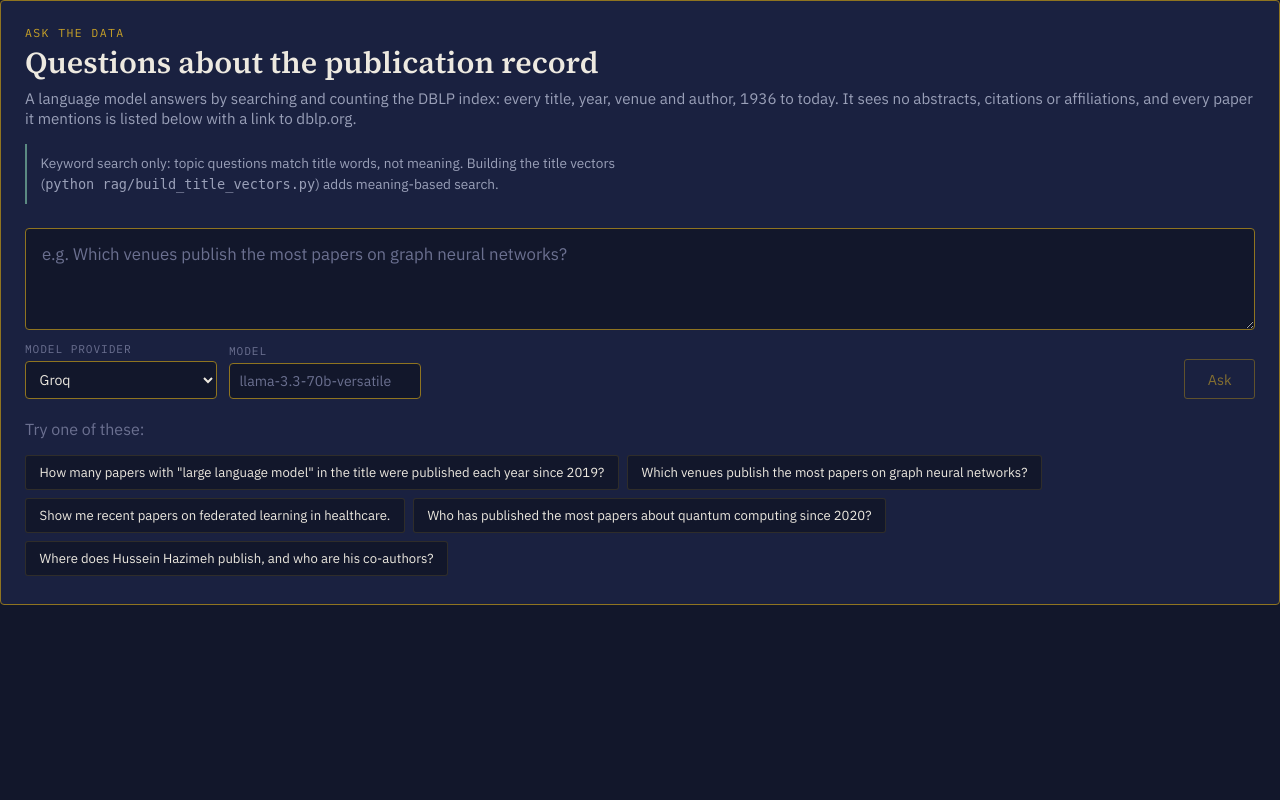
Test case: AskPage › sends the chosen provider and model
This screenshot has width=1280, height=800.
Select "Ollama (local)" in the dropdown labelled "Model provider": {"x": 121, "y": 380} left=25, top=362, right=217, bottom=400
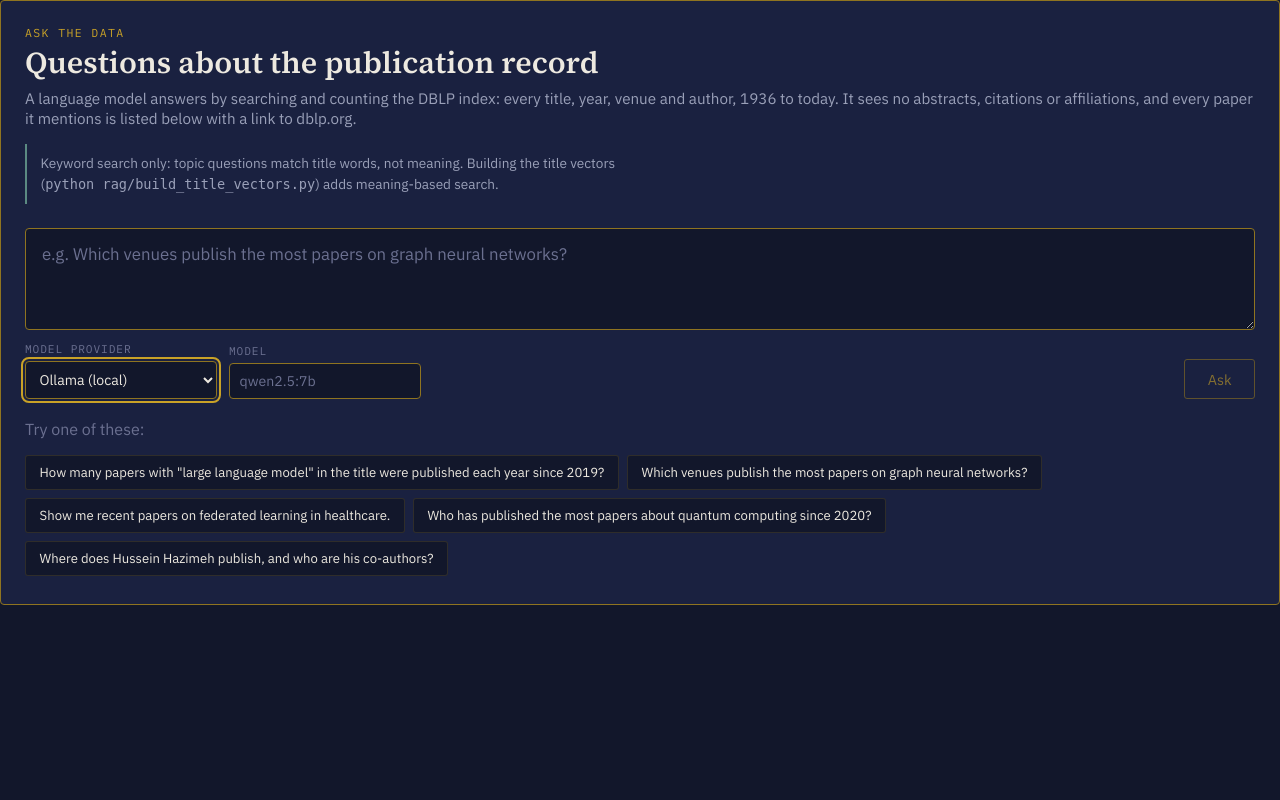
In the field labelled "Model": {"x": 325, "y": 382} left=229, top=364, right=421, bottom=400, type "llama3.1:8b"
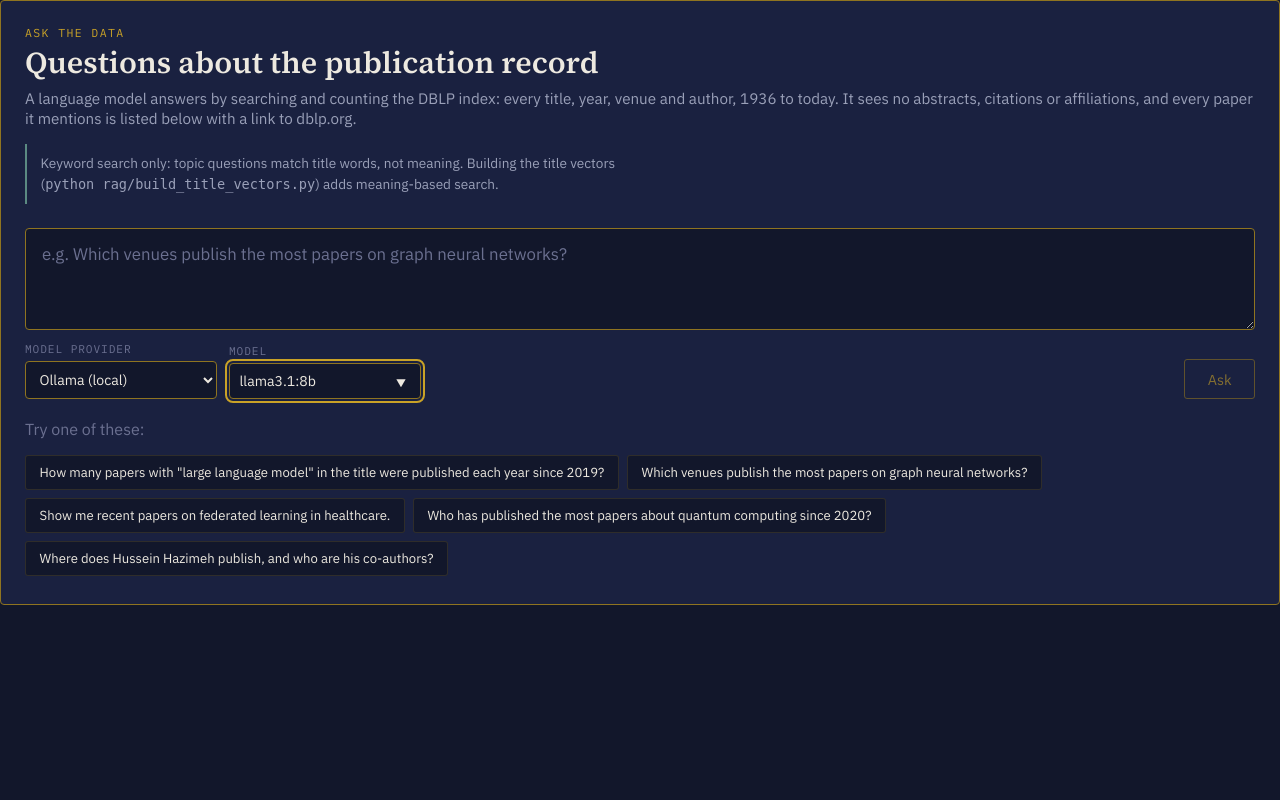
In the text box named "Your question": {"x": 640, "y": 279} left=25, top=228, right=1255, bottom=330, type "q"
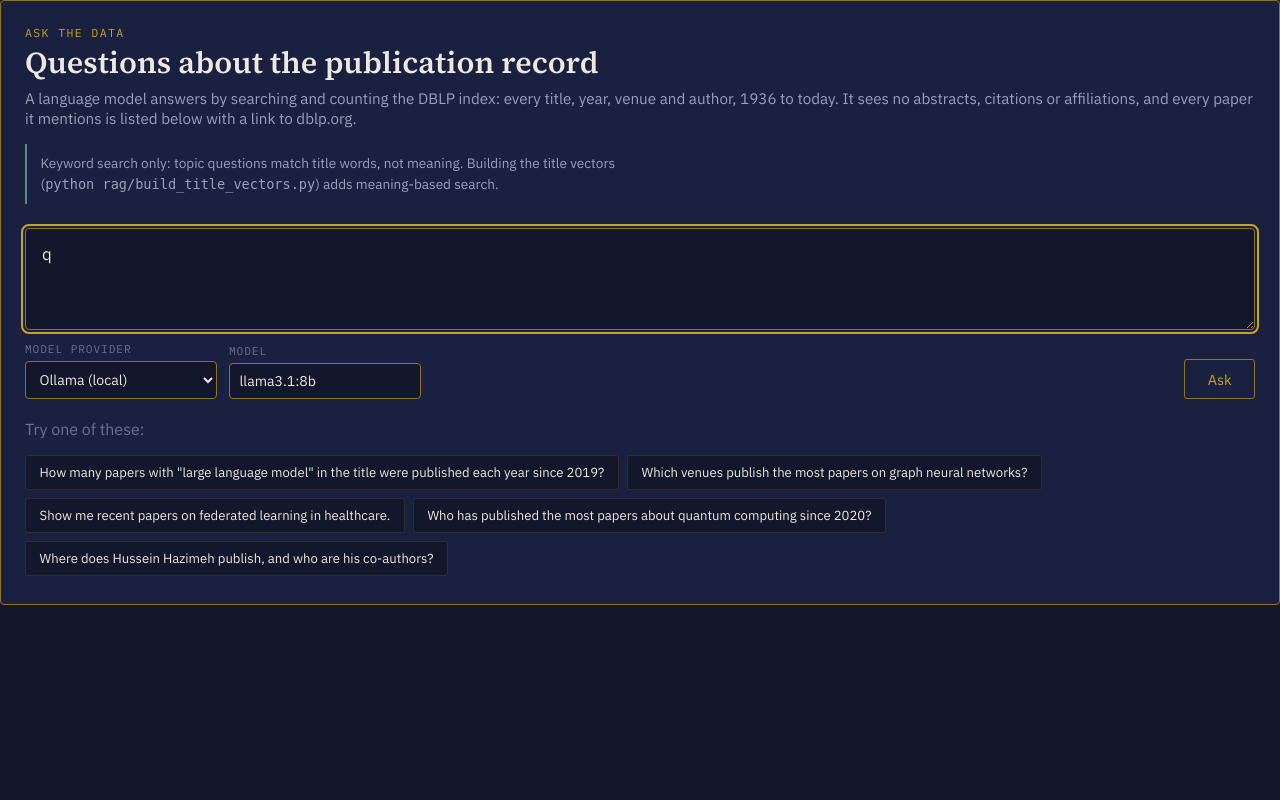
Click the button "Ask": {"x": 1220, "y": 379} left=1184, top=359, right=1255, bottom=400
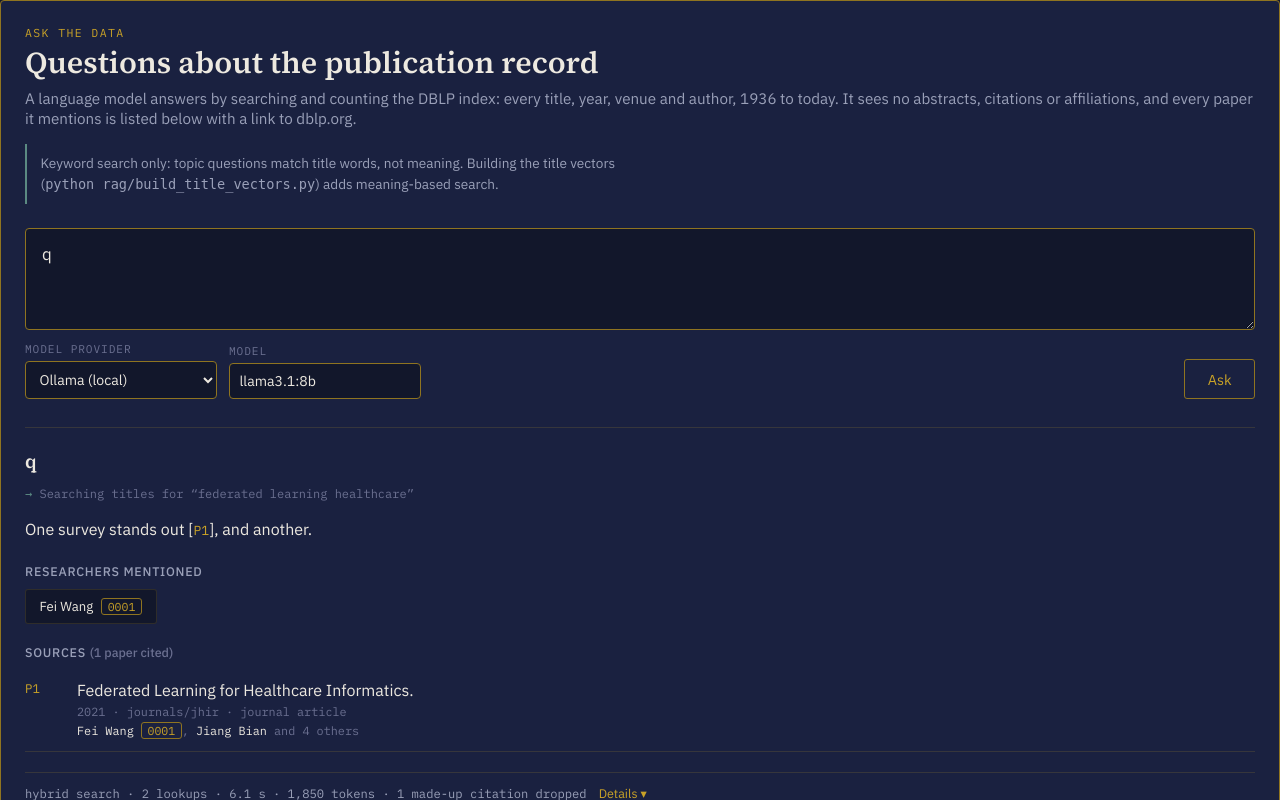
Check: the text "hybrid search · 2 lookups · 6.1 s · 1,850 tokens · 1 made-up citation dropped" is shown, box left=25, top=786, right=587, bottom=799
